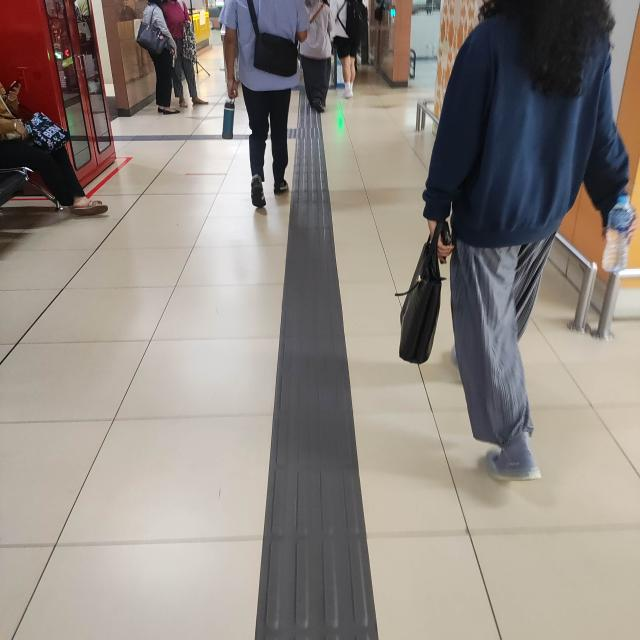lurus: (270, 144, 368, 640)
